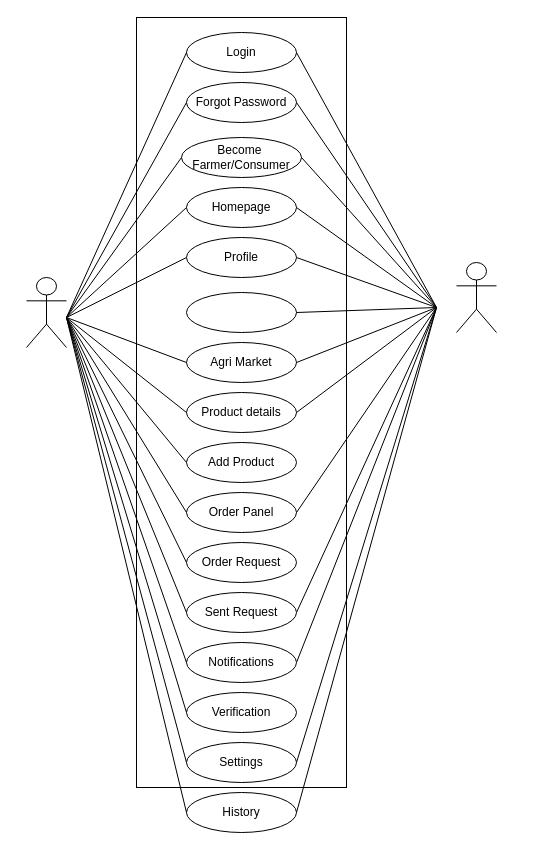
Image size: 535x850. Some labels were removed from this diagram. Each missing label, with the centre of its shape:
"Consumer" goes at point 476,297.
"Farmer" goes at point 46,312.
"Switch to Farmer" goes at point 241,312.
